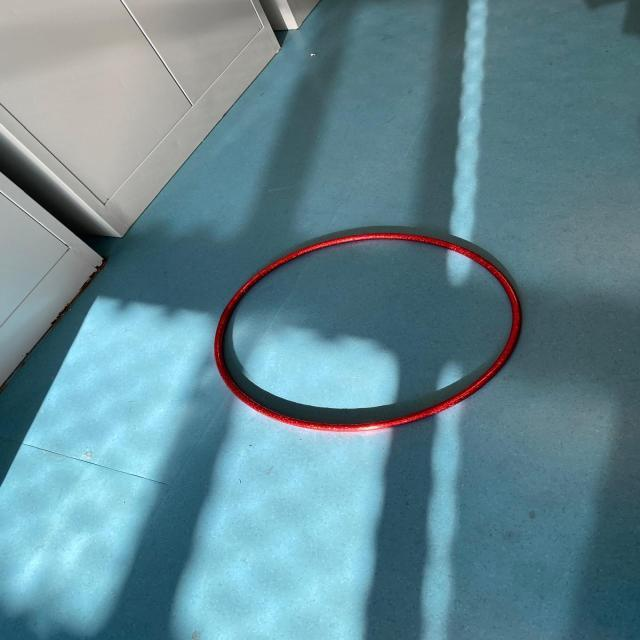Circle: (202, 222, 538, 442)
